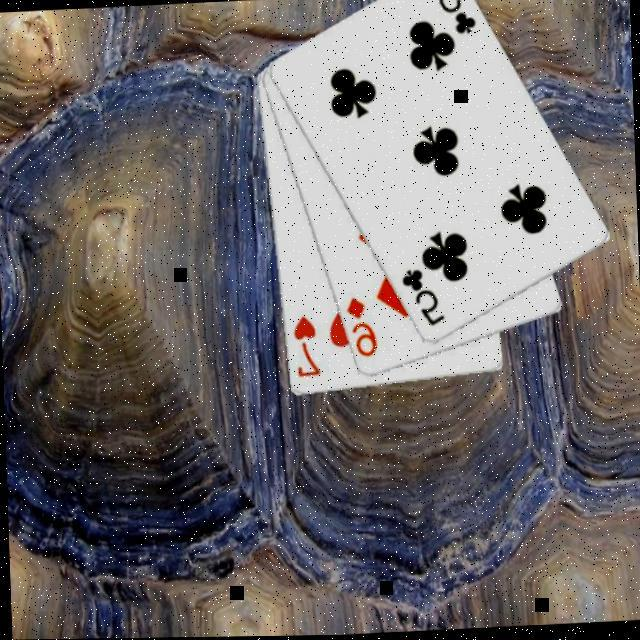5C: (398, 264, 448, 330), (429, 0, 479, 38)
7H: (290, 311, 323, 380)
9D: (343, 292, 381, 360)
